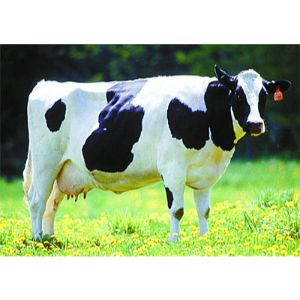cow: (19, 63, 293, 245)
